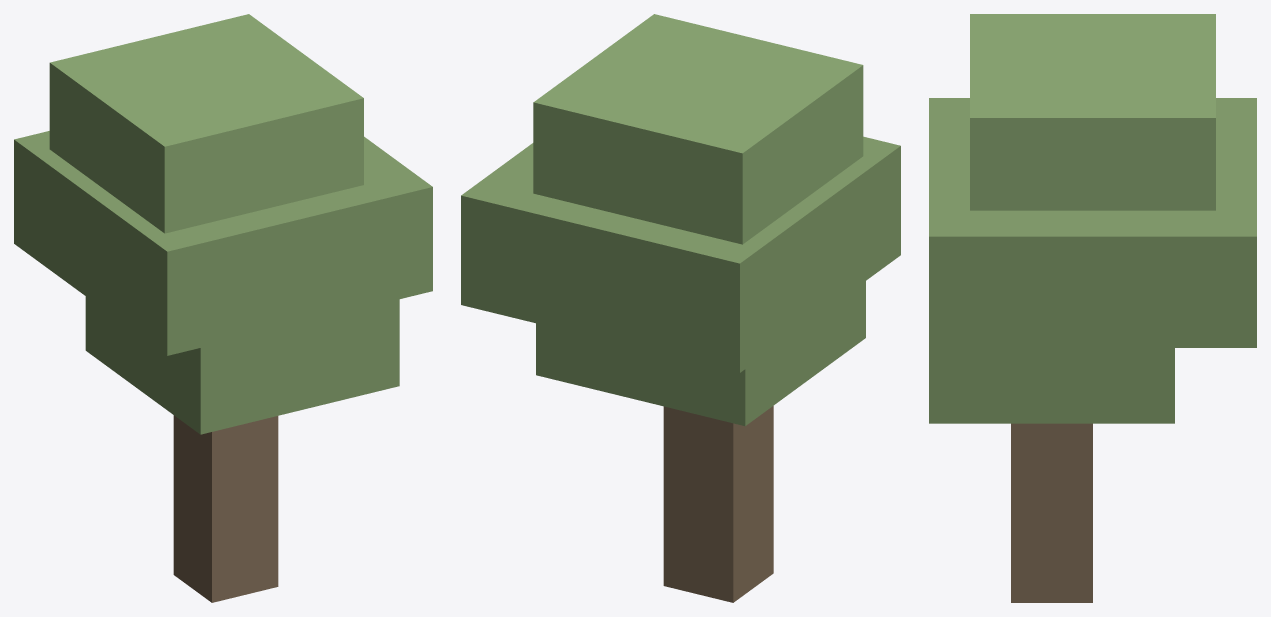
The model's file is chopo_05.glb.
3 renders of one model, left to right at view 1: azimuth 30°, elevation 25°; view 2: azimuth 150°, elevation 25°; view 3: azimuth 270°, elevation 25°, orthographic. The views are drawn at different scales.
Visible parts, largest first — view 1: chopo_05; view 2: chopo_05; view 3: chopo_05.
Boxes of the visible parts, x1,y1,x2,y2 form: chopo_05: (14, 14, 432, 602); chopo_05: (461, 14, 900, 602); chopo_05: (929, 14, 1256, 602).
Bounding box in the file's own units: 1.6 × 2.8 × 1.6.
